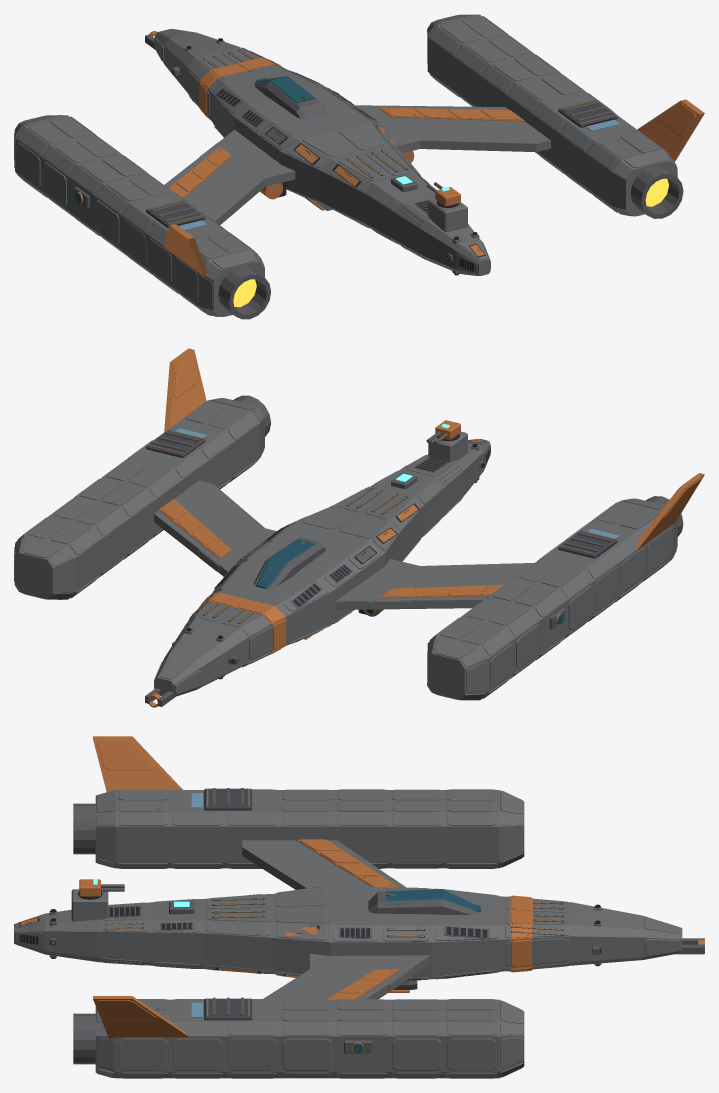
File: mars_interceptor_t3.glb
3 renders of one model, top to bottom at view 1: azimuth 30°, elevation 25°; view 2: azimuth 150°, elevation 25°; view 3: azimuth 270°, elevation 25°, orthographic. The views are drawn at different scales.
Visible parts, largest first — view 1: FleetHull; view 2: FleetHull; view 3: FleetHull.
Part boxes in pixels (x1,y1,x2,y2): FleetHull: (14, 14, 704, 319); FleetHull: (14, 348, 704, 707); FleetHull: (14, 736, 704, 1078).
Size of the model in its own units: 22.04 by 4.71 by 24.5.
